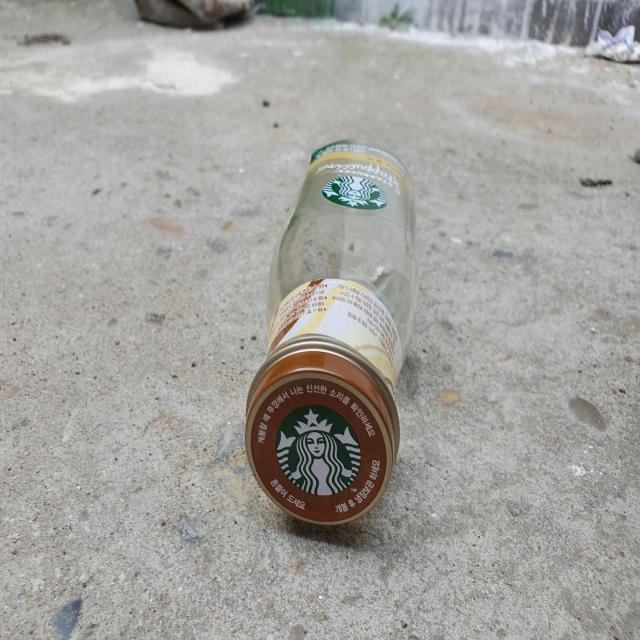glass: (245, 140, 418, 526)
